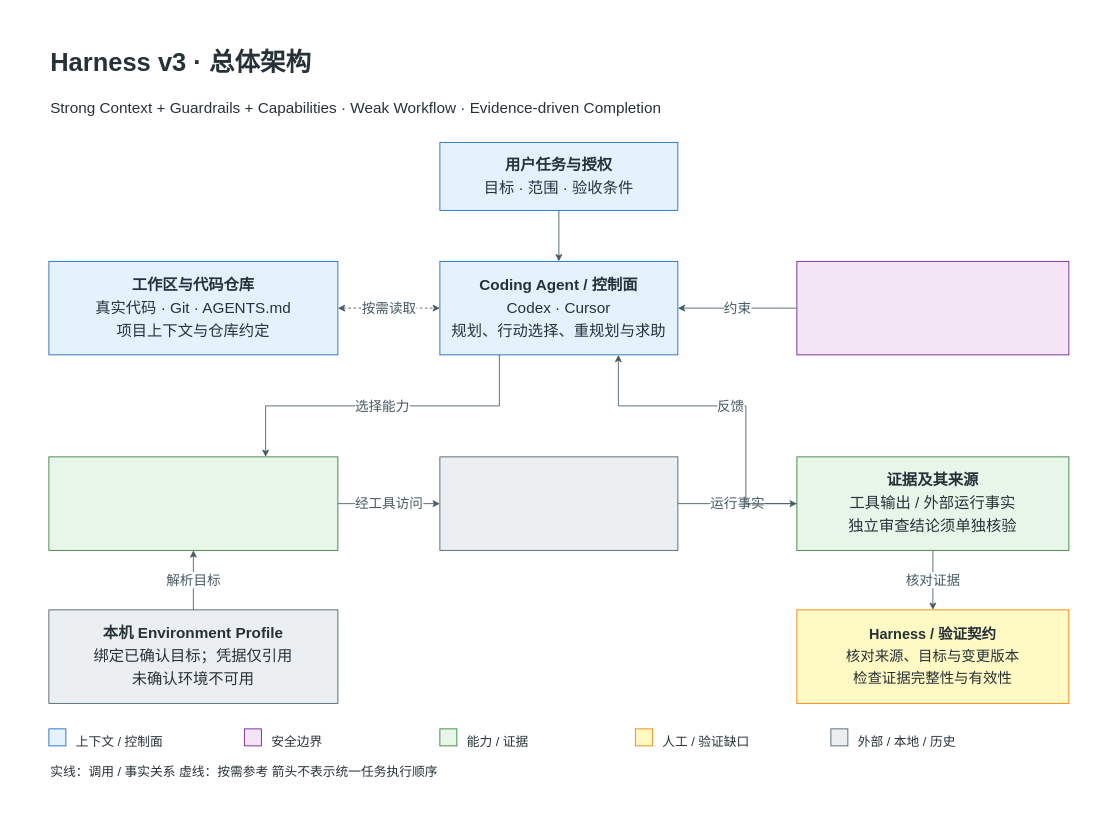
This 1117x836 diagram has some shape labels left out. Each missing label, with the centre of its shape:
Harness / 上下文与能力 按需 Rule / Skill / Playbook Helper / CLI / MCP 工具入口: point 193,503
Harness / 安全边界 授权约束 · 目标隔离 · 凭据保护 Rule / Hook 不授予平台权限: point 932,308
外部工程系统 CodeArts / Apifox Kubernetes / Nacos / 日志 / DB: point 558,503
